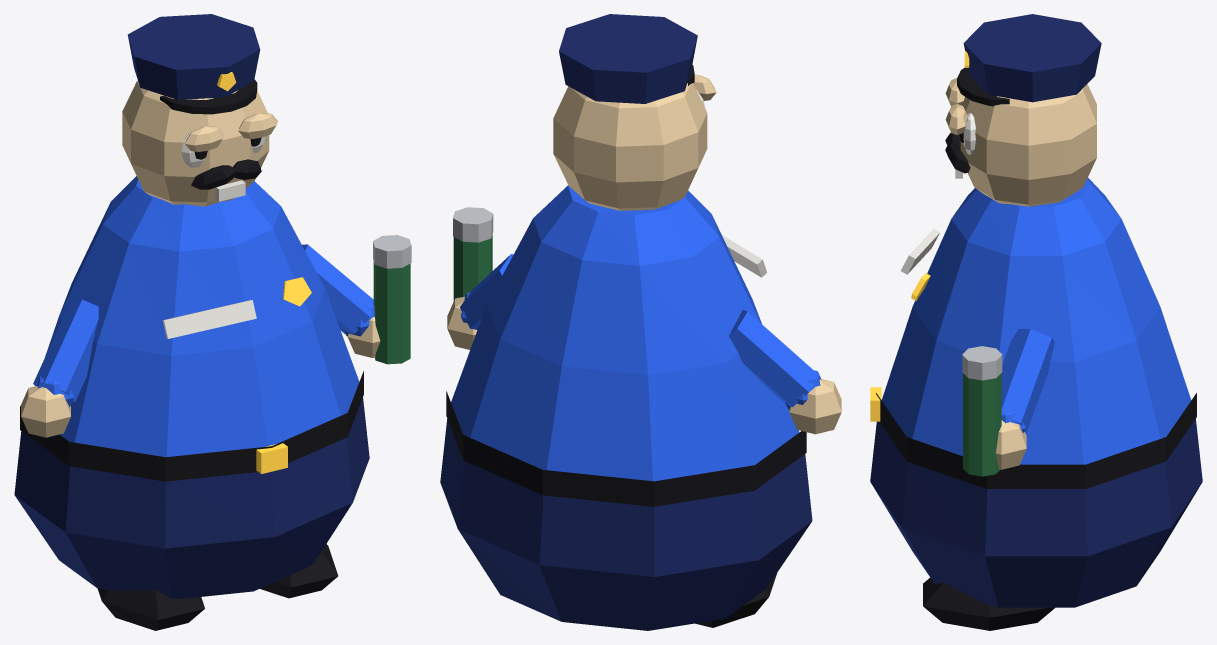
File: npc_cabo_ronquido.glb
3 renders of one model, left to right at view 1: azimuth 30°, elevation 25°; view 2: azimuth 150°, elevation 25°; view 3: azimuth 270°, elevation 25°, orthographic. The views are drawn at different scales.
Visible parts, largest first — view 1: body_shirt, body_pants, head_skin_staff, cap_cap, body_black, arms_shirt, legs_black, props_thermos_green, arms_skin_staff, plate_white, face_skin_staff, cap_black (+4 smaller); view 2: body_shirt, body_pants, head_skin_staff, cap_cap, body_black, arms_shirt, arms_skin_staff, props_thermos_green, props_thermos_cap, legs_black, plate_white; view 3: body_shirt, body_pants, head_skin_staff, cap_cap, body_black, arms_shirt, props_thermos_green, legs_black, props_thermos_cap, arms_skin_staff, cap_black, face_skin_staff (+2 smaller).
Part boxes in pixels (bbox=[...]): body_shirt: bbox=[45, 176, 359, 457]; body_pants: bbox=[14, 398, 369, 598]; head_skin_staff: bbox=[122, 80, 269, 206]; cap_cap: bbox=[127, 14, 260, 99]; body_black: bbox=[20, 371, 363, 481]; arms_shirt: bbox=[33, 244, 374, 406]; legs_black: bbox=[97, 544, 338, 630]; props_thermos_green: bbox=[373, 261, 410, 364]; arms_skin_staff: bbox=[21, 317, 380, 437]; plate_white: bbox=[162, 300, 256, 338]; face_skin_staff: bbox=[185, 113, 277, 151]; cap_black: bbox=[160, 79, 257, 114]; body_shirt: bbox=[451, 185, 799, 481]; body_pants: bbox=[440, 419, 812, 630]; head_skin_staff: bbox=[553, 83, 707, 210]; cap_cap: bbox=[559, 14, 697, 103]; body_black: bbox=[446, 391, 806, 506]; arms_shirt: bbox=[460, 254, 820, 409]; arms_skin_staff: bbox=[447, 296, 841, 434]; props_thermos_green: bbox=[453, 234, 492, 300]; props_thermos_cap: bbox=[453, 207, 493, 242]; legs_black: bbox=[695, 573, 776, 627]; plate_white: bbox=[722, 235, 766, 277]; body_shirt: bbox=[881, 178, 1191, 464]; body_pants: bbox=[870, 419, 1202, 607]; head_skin_staff: bbox=[960, 84, 1096, 206]; cap_cap: bbox=[963, 14, 1101, 102]; body_black: bbox=[876, 393, 1196, 488]; arms_shirt: bbox=[1001, 329, 1054, 432]; props_thermos_green: bbox=[963, 373, 1001, 476]; legs_black: bbox=[923, 577, 1054, 630]; props_thermos_cap: bbox=[962, 346, 1002, 380]; arms_skin_staff: bbox=[995, 420, 1026, 469]; cap_black: bbox=[957, 68, 1009, 106]; face_skin_staff: bbox=[945, 78, 967, 134].
Size of the model in its own units: 1.14 by 1.56 by 0.86.
